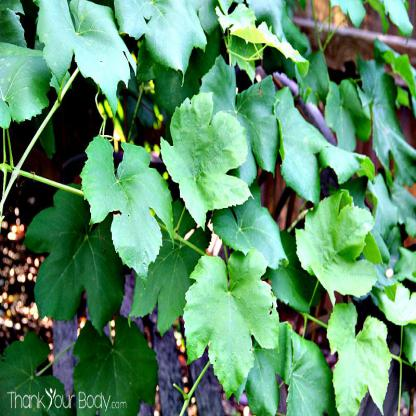grape leaf: (81, 130, 176, 286), (25, 188, 122, 330), (159, 91, 252, 234), (34, 1, 133, 123), (290, 191, 376, 302), (322, 297, 397, 415), (213, 179, 288, 271)
